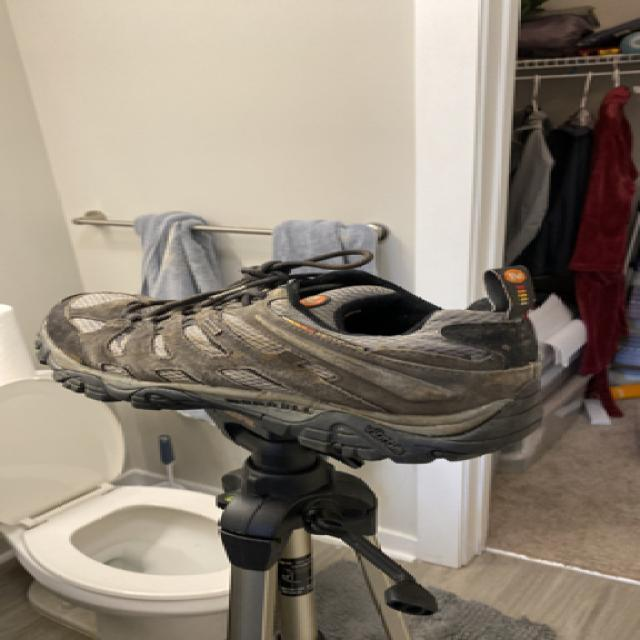shoe: (35, 250, 549, 467)
